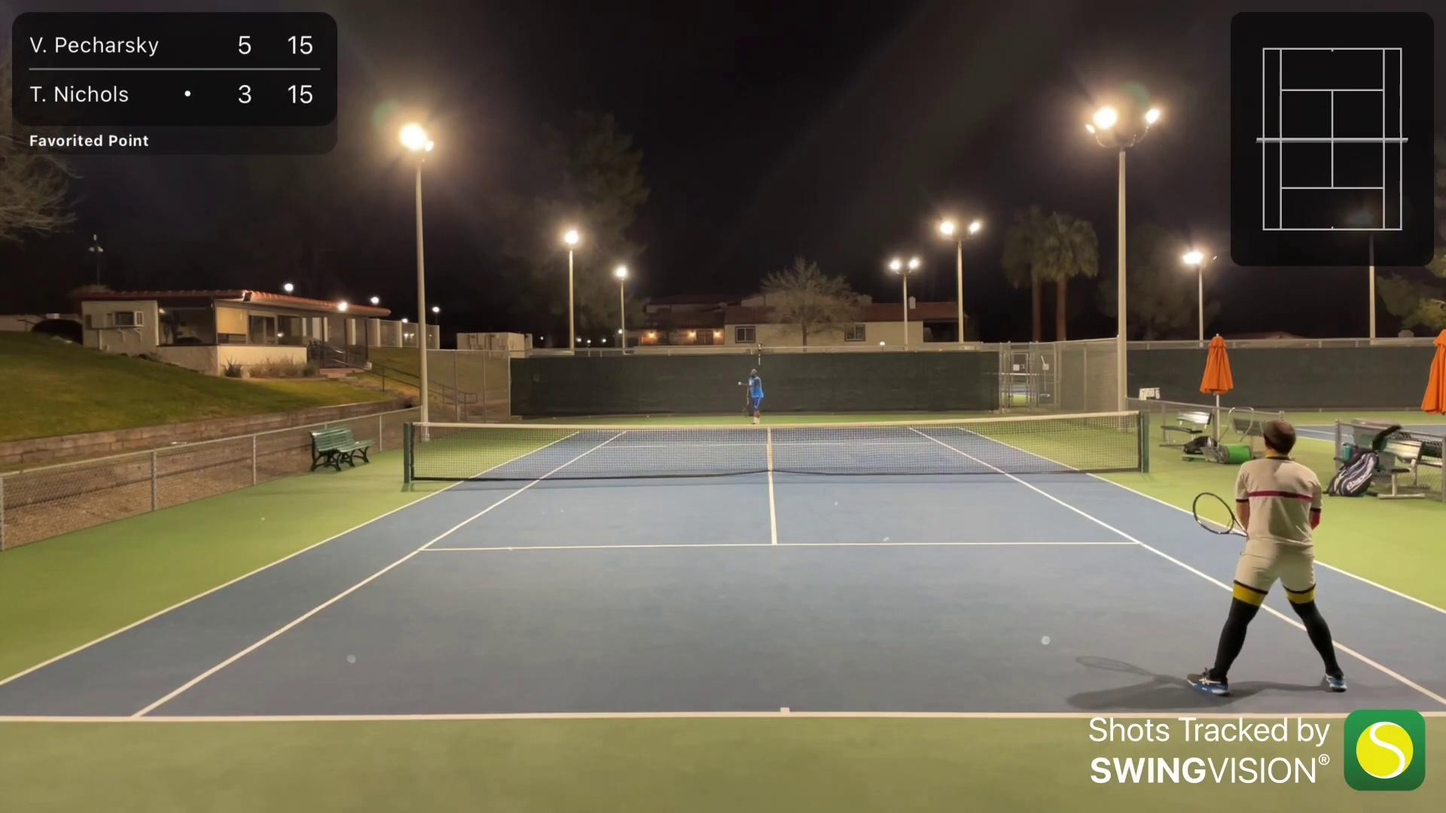ball: (737, 379, 742, 386)
